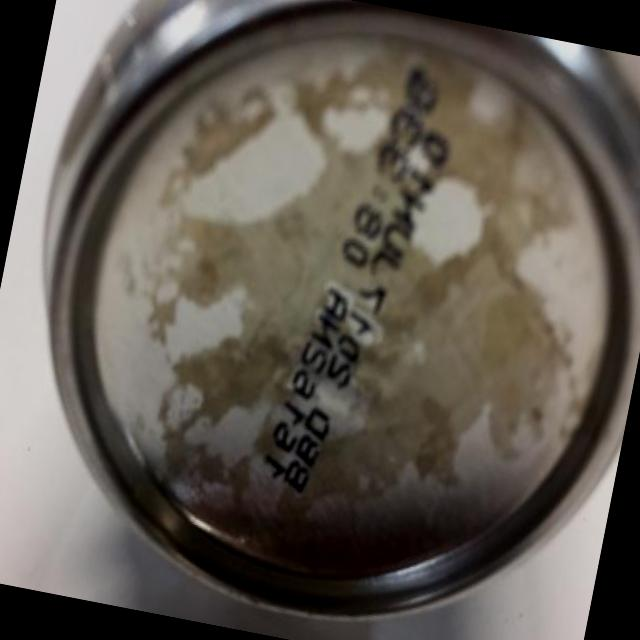metal: (45, 0, 639, 617)
